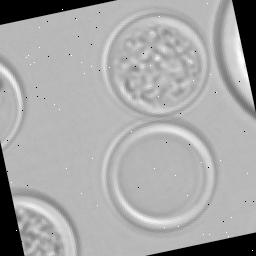picoshell: (99, 120, 216, 230), (99, 7, 209, 115), (212, 0, 255, 117), (10, 188, 78, 256), (0, 60, 24, 149)
